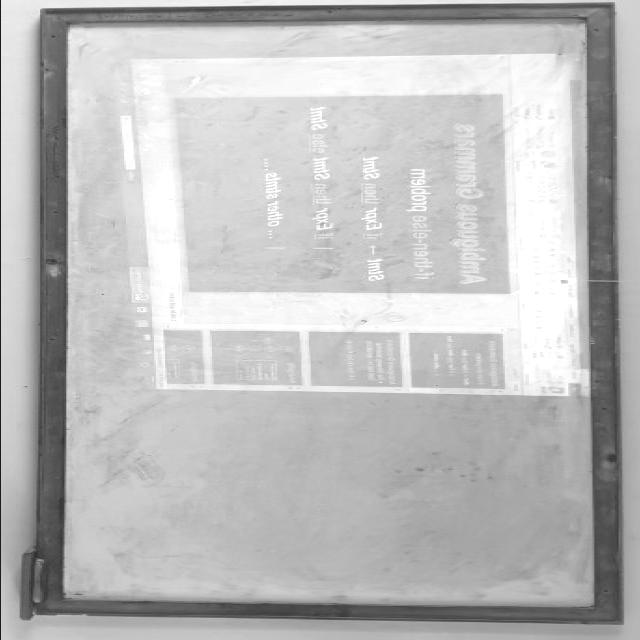Slide: (98, 52, 606, 398)
White-board: (46, 11, 606, 616)
